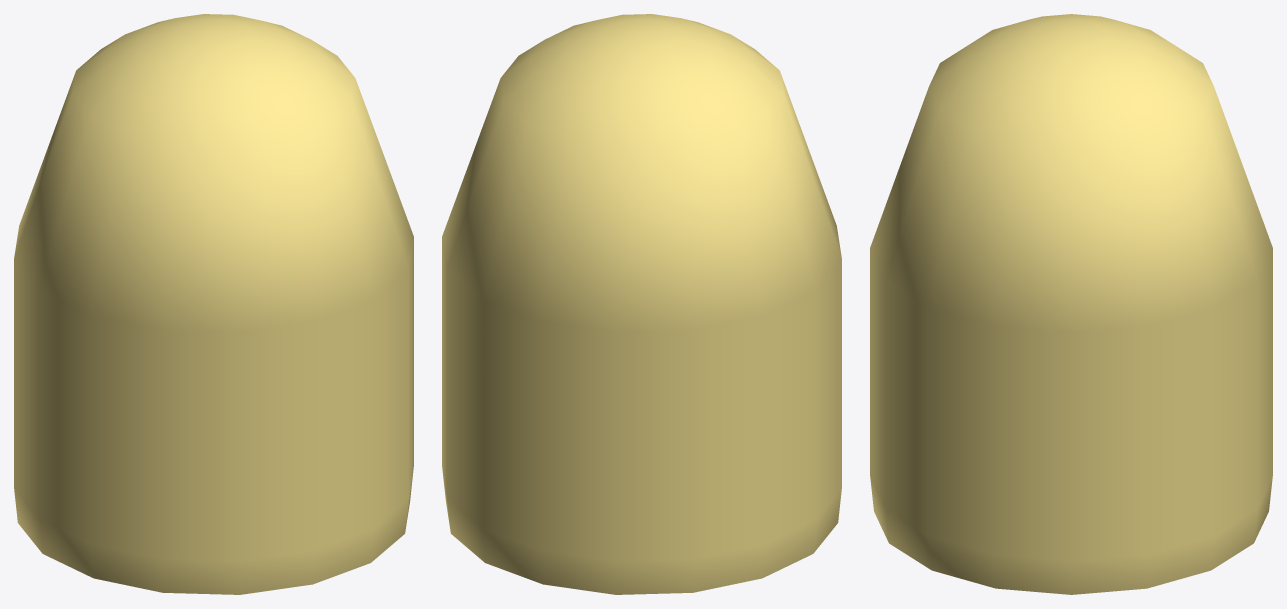
The model's file is grain-sand.glb.
3 renders of one model, left to right at view 1: azimuth 30°, elevation 25°; view 2: azimuth 150°, elevation 25°; view 3: azimuth 270°, elevation 25°, orthographic.
Parts seen in each view (by area): view 1: grain-sand-node; view 2: grain-sand-node; view 3: grain-sand-node.
Boxes of the visible parts, <box> form: grain-sand-node: <box>14,14,413,594</box>; grain-sand-node: <box>442,14,841,594</box>; grain-sand-node: <box>870,14,1272,594</box>.
Size of the model in its own units: 1.4 by 1.84 by 1.4.
